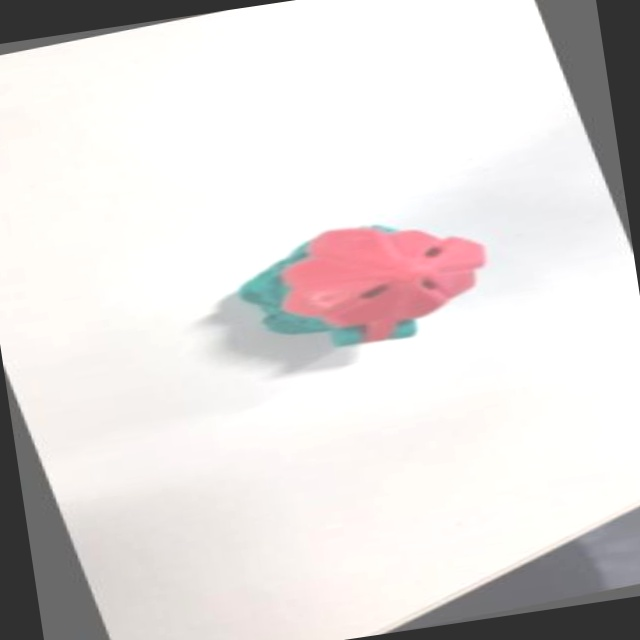House: (202, 198, 516, 376)
